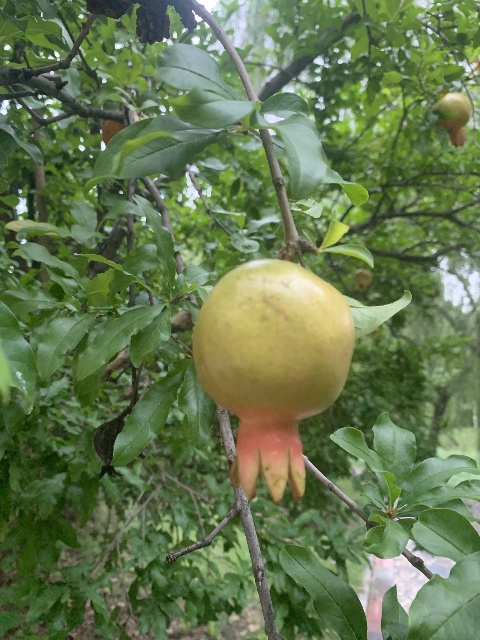mid-growth: (191, 259, 354, 504), (432, 91, 471, 145)
